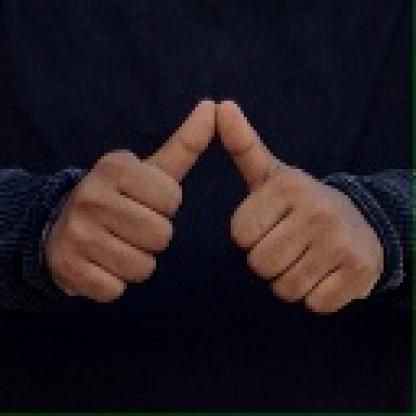A: (52, 90, 376, 315)
